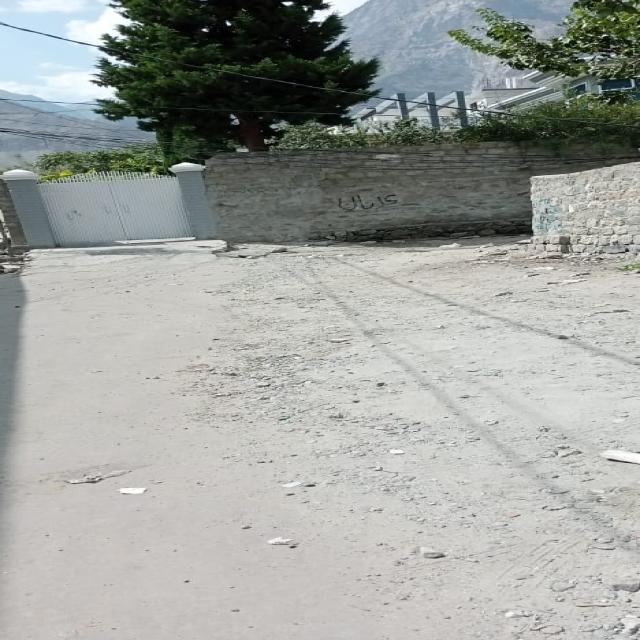Right-Turn: (208, 228, 495, 388)
